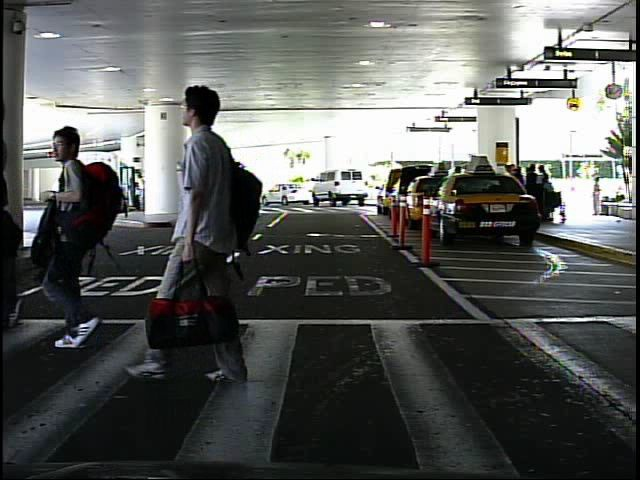person: (151, 79, 270, 396), (33, 117, 127, 355), (51, 171, 70, 220), (588, 173, 607, 219)
